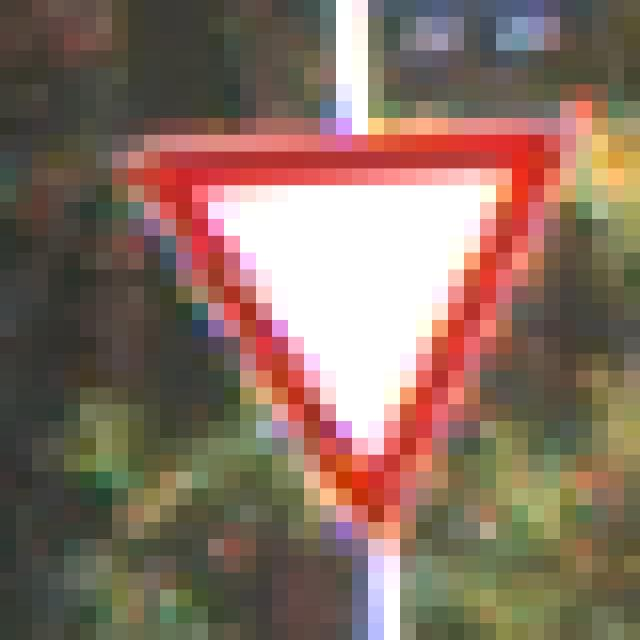Give Way: (97, 85, 561, 540)
